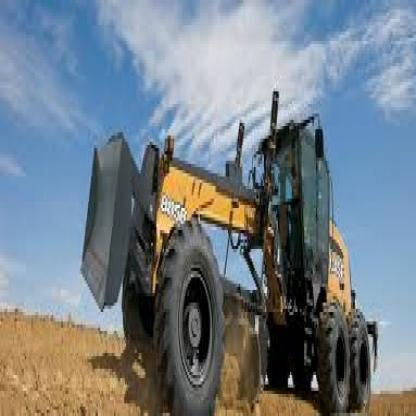bull_dozer/loader/grader: (83, 91, 380, 413)
